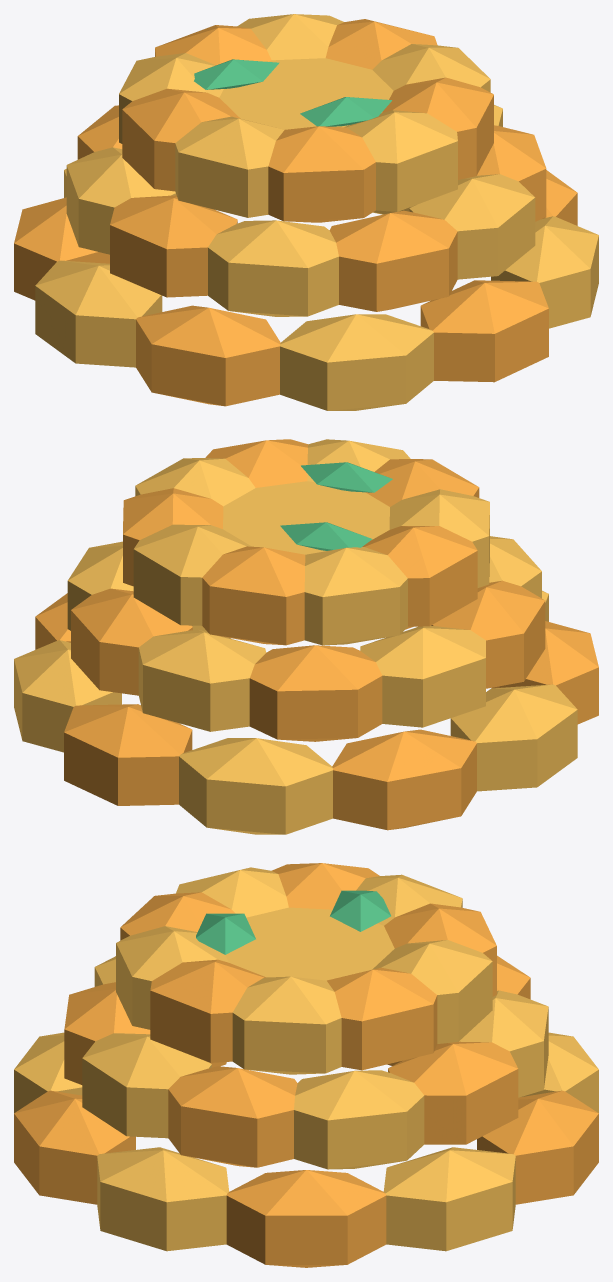
The model's file is noodles-cooked.glb.
3 renders of one model, top to bottom at view 1: azimuth 30°, elevation 25°; view 2: azimuth 150°, elevation 25°; view 3: azimuth 270°, elevation 25°, orthographic.
Parts seen in each view (by area): view 1: noodles-cooked; view 2: noodles-cooked; view 3: noodles-cooked.
Part boxes in pixels (x1,y1,x2,y2): noodles-cooked: [14, 14, 598, 410]; noodles-cooked: [14, 439, 598, 834]; noodles-cooked: [14, 863, 598, 1267].
Size of the model in its own units: 0.2175 by 0.101 by 0.2162.
Materials: 1 (1 with a texture image).
